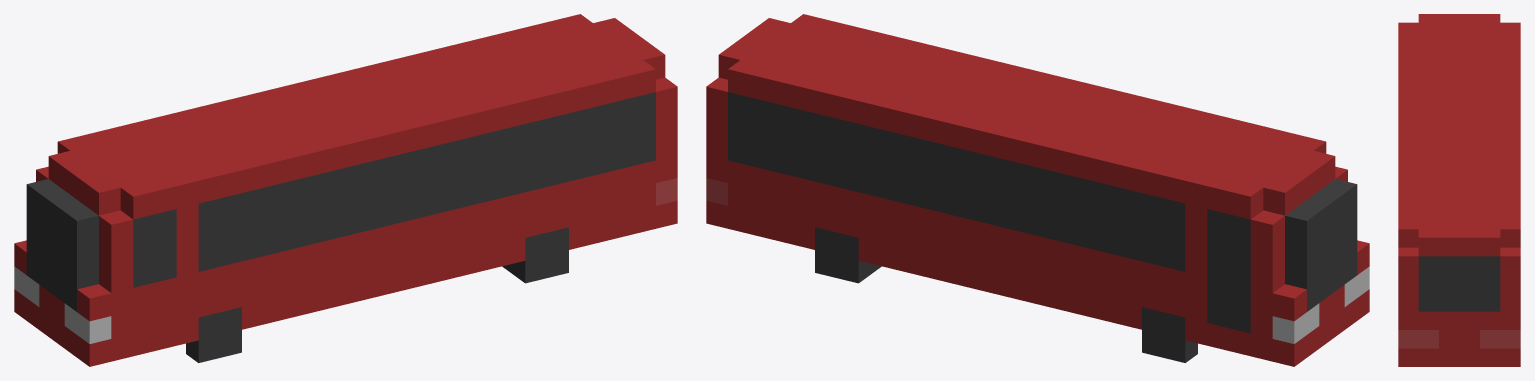
File: bus-big-red.gltf
3 views of the same model, side by side, from view 1: azimuth 30°, elevation 25°; view 2: azimuth 150°, elevation 25°; view 3: azimuth 270°, elevation 25° (orthographic). The views are drawn at different scales.
Parts seen in each view (by area): view 1: model, wheels; view 2: model, wheels; view 3: model.
Part boxes in pixels (<box>): model: <box>14,14,677,366</box>; wheels: <box>186,227,568,362</box>; model: <box>706,14,1369,366</box>; wheels: <box>815,227,1197,362</box>; model: <box>1398,14,1520,366</box>.
Size of the model in its own units: 2.7 by 0.8 by 0.6.
2 materials, 2 textured.
